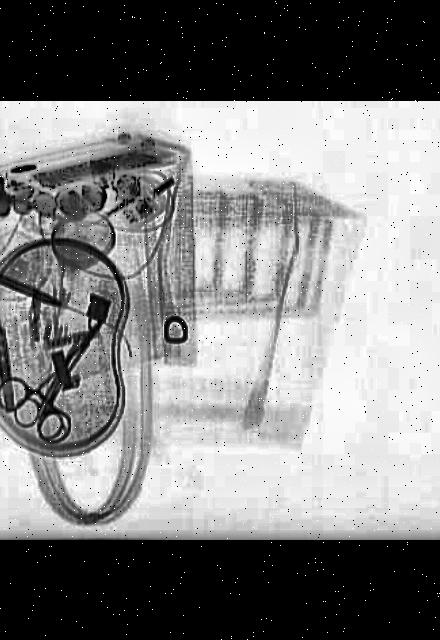Scissors: (0, 301, 141, 448), (5, 334, 115, 448)
